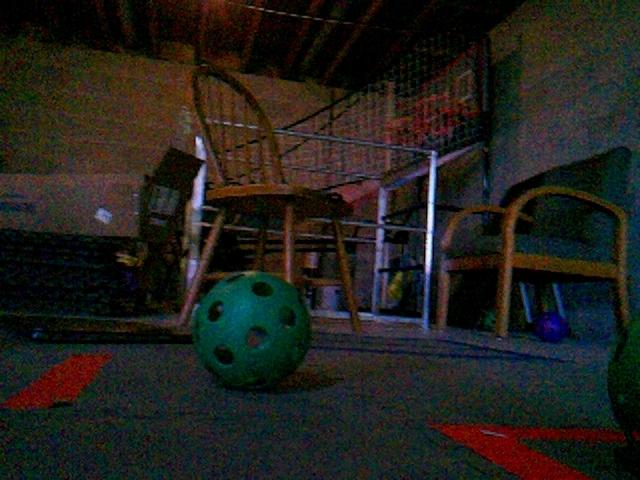Green: (187, 270, 313, 389), (611, 315, 640, 455), (476, 307, 498, 332)
Purple: (532, 311, 570, 343)
